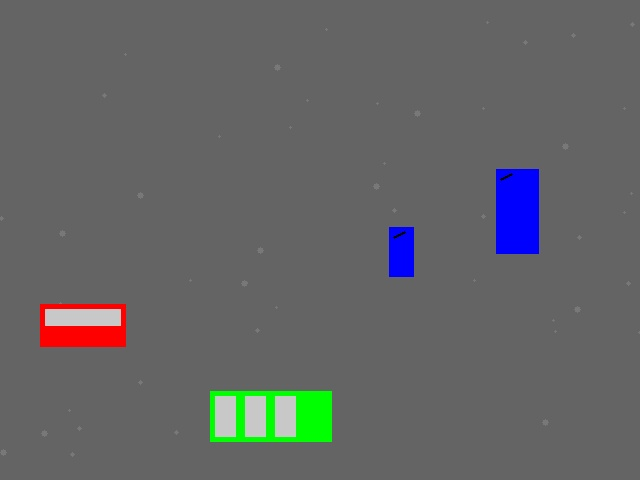bus: (210, 391, 331, 441)
car: (40, 304, 125, 346)
motorcycle: (496, 169, 538, 253), (389, 227, 413, 276)
